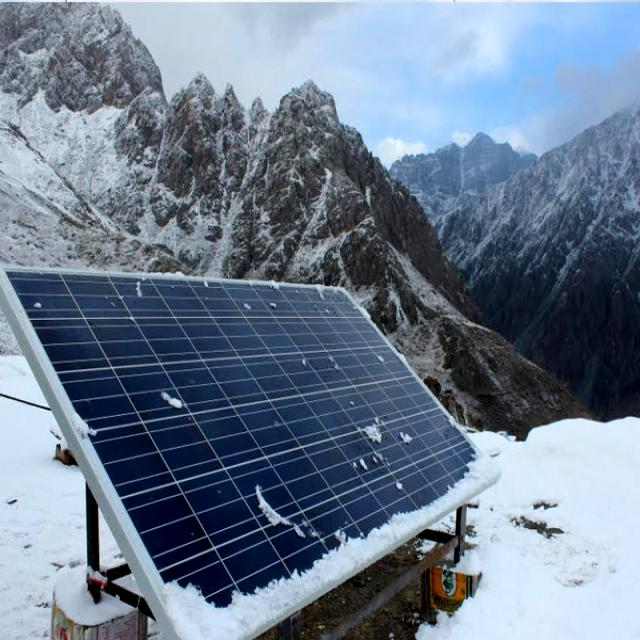panel: (160, 570, 273, 640), (351, 402, 427, 494), (282, 558, 359, 614), (251, 479, 314, 541), (456, 442, 502, 504), (381, 503, 451, 539), (146, 381, 207, 418), (322, 512, 375, 554), (233, 290, 294, 324), (285, 352, 362, 378), (122, 289, 180, 314), (307, 286, 347, 319), (28, 294, 76, 314), (378, 336, 401, 372)
